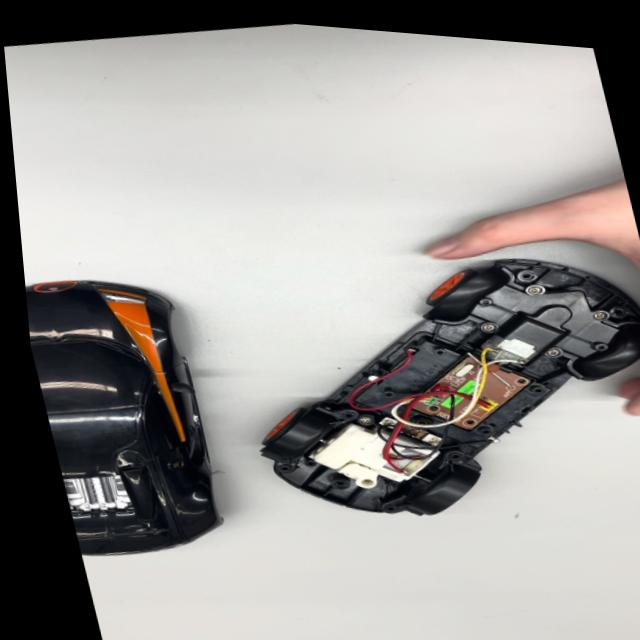Chassis: (200, 214, 640, 564)
vehicle_body: (23, 259, 232, 575)
